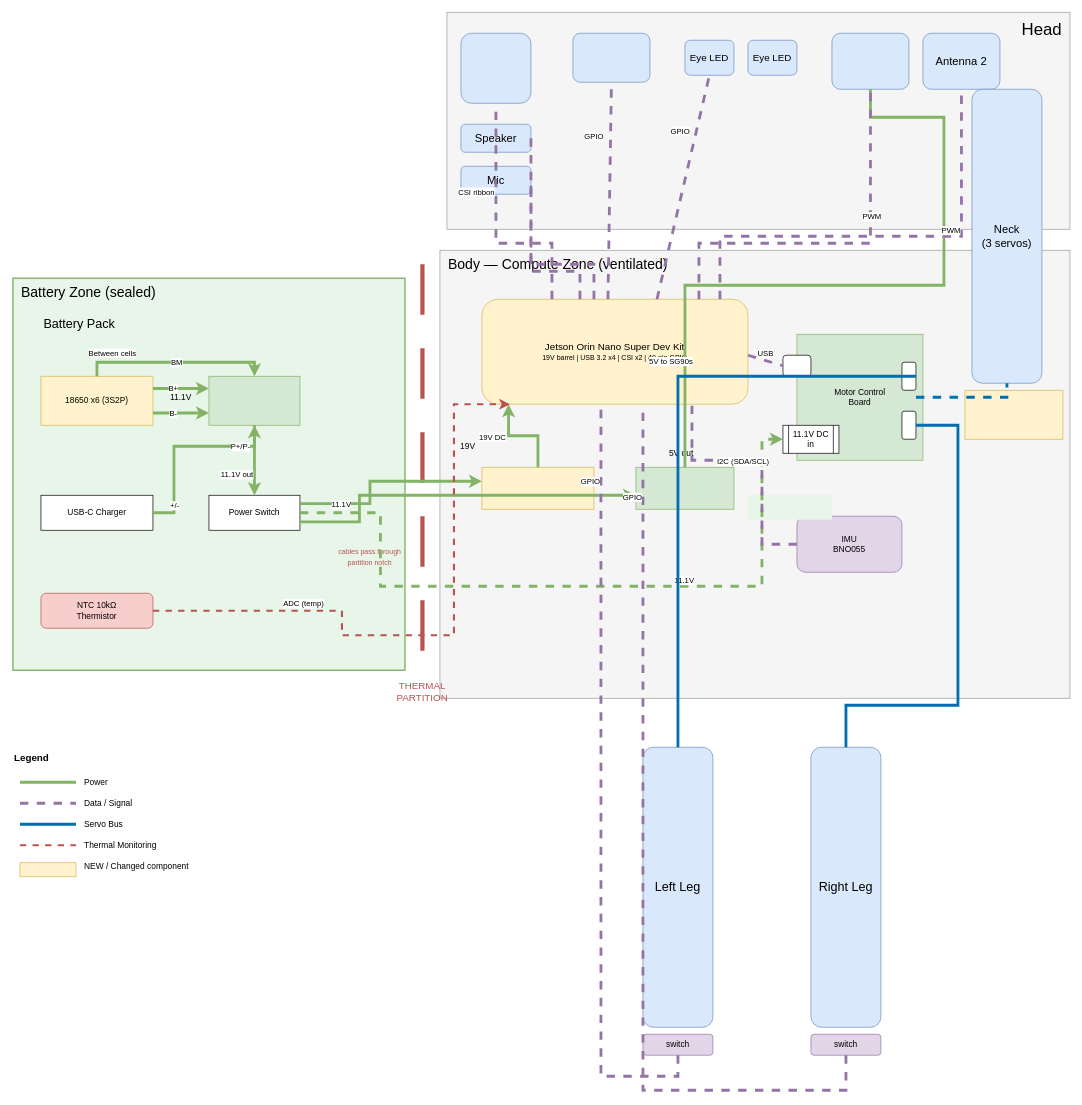
Some shapes in this 1082 by 1105 pixel diagram are drawn without their labels. Each missing label, with the centre of its shape:
Antenna 1: the point at 870,61
BMS (3S, ≥15A): the point at 254,400
Camera: the point at 495,68
DC-DC Boost 11.1V → 19V: the point at 537,488
Flashlight: the point at 611,57
Neck Cable Bundle: CSI ribbon + PWM x2 + GPIO x5 + 5V/GND + Audio (I2S): the point at 1013,414
TRUNK-LOCAL (no neck routing!): the point at 790,507
UBEC: the point at 684,488
usb-c: the point at 796,365
